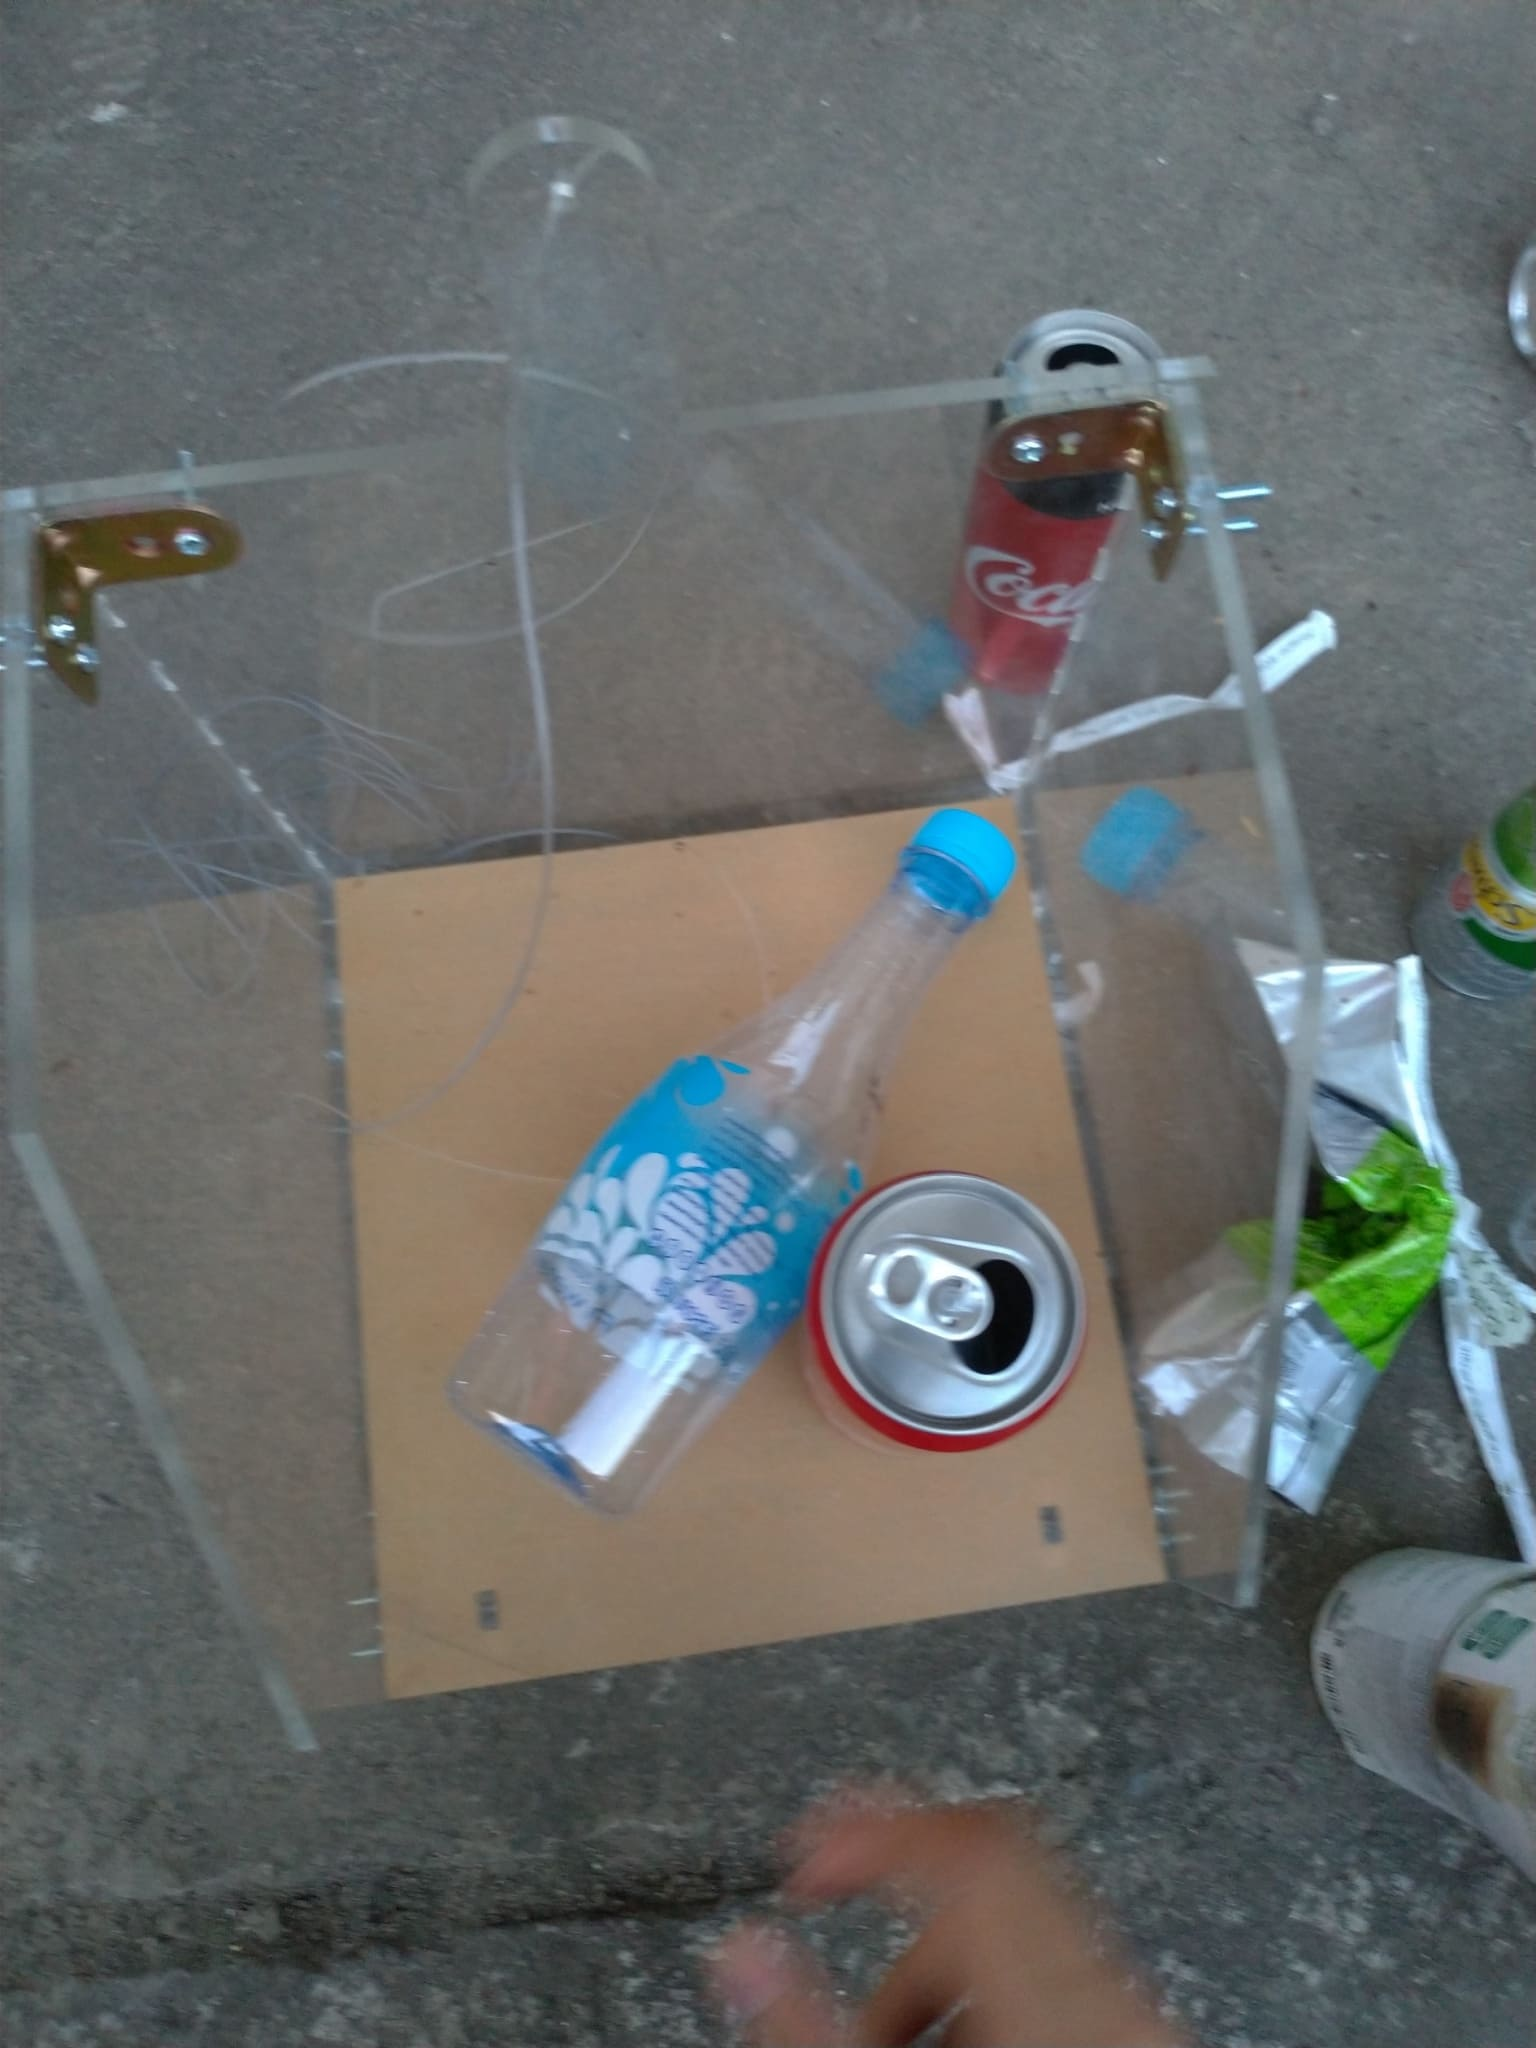AlCan: (947, 314, 1179, 701), (803, 1177, 1097, 1458), (1313, 1538, 1536, 1861), (1417, 784, 1536, 989)
Others: (1144, 927, 1450, 1517), (1404, 980, 1536, 1535), (933, 611, 1344, 785)
PlasticBottle: (450, 808, 1021, 1534)
